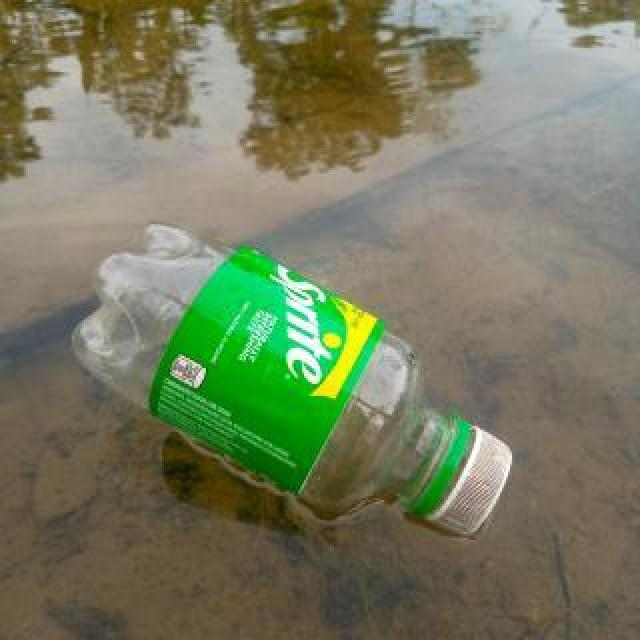bottle: (66, 212, 514, 542)
